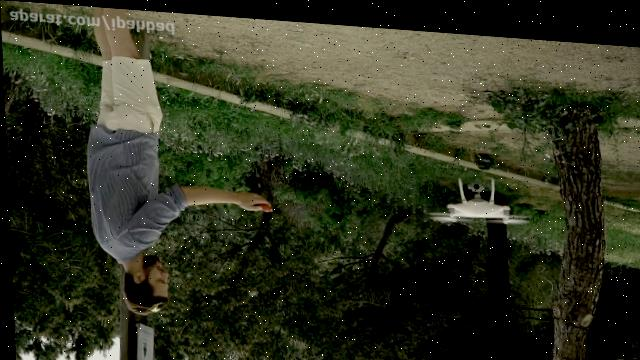drone: (425, 165, 531, 228)
